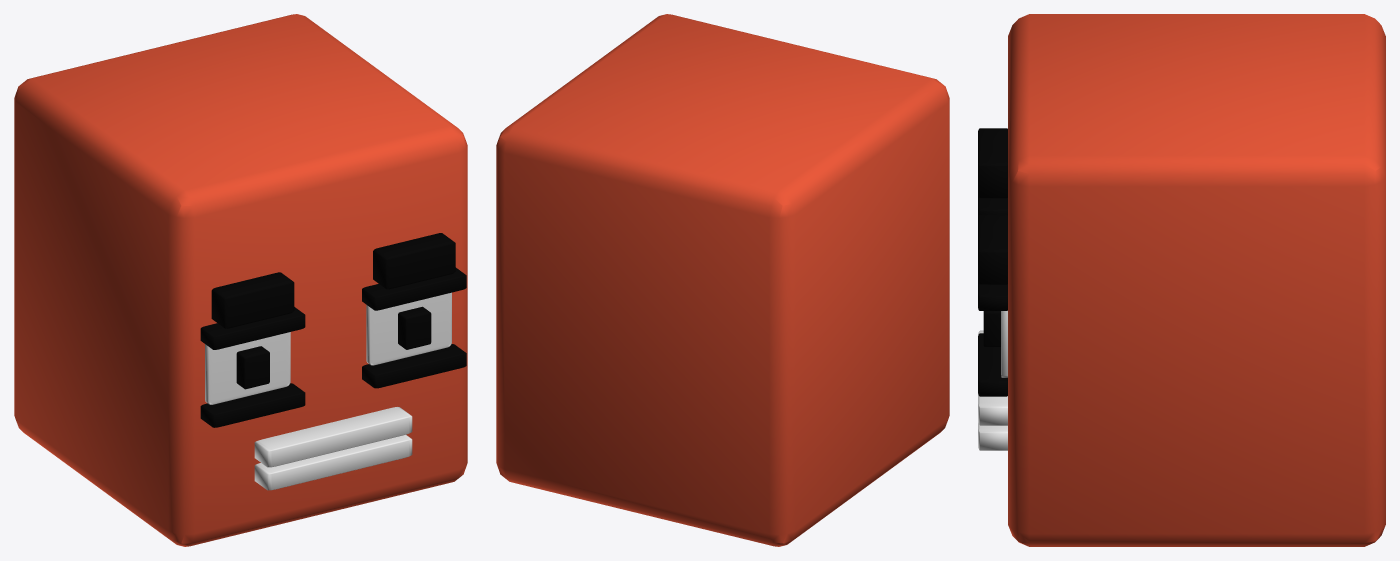
Rendered from head2.glb.
The picture shows the model from 3 angles, left to right: view 1: azimuth 30°, elevation 25°; view 2: azimuth 150°, elevation 25°; view 3: azimuth 270°, elevation 25°; orthographic projection. The views are drawn at different scales.
Parts seen in each view (by area): view 1: Cube; view 2: Cube; view 3: Cube.
Boxes of the visible parts, bbox=[...] form: Cube: bbox=[14, 14, 467, 546]; Cube: bbox=[496, 14, 949, 546]; Cube: bbox=[978, 14, 1385, 546].
Bounding box in the file's own units: 0.7 × 0.8 × 0.7553.
